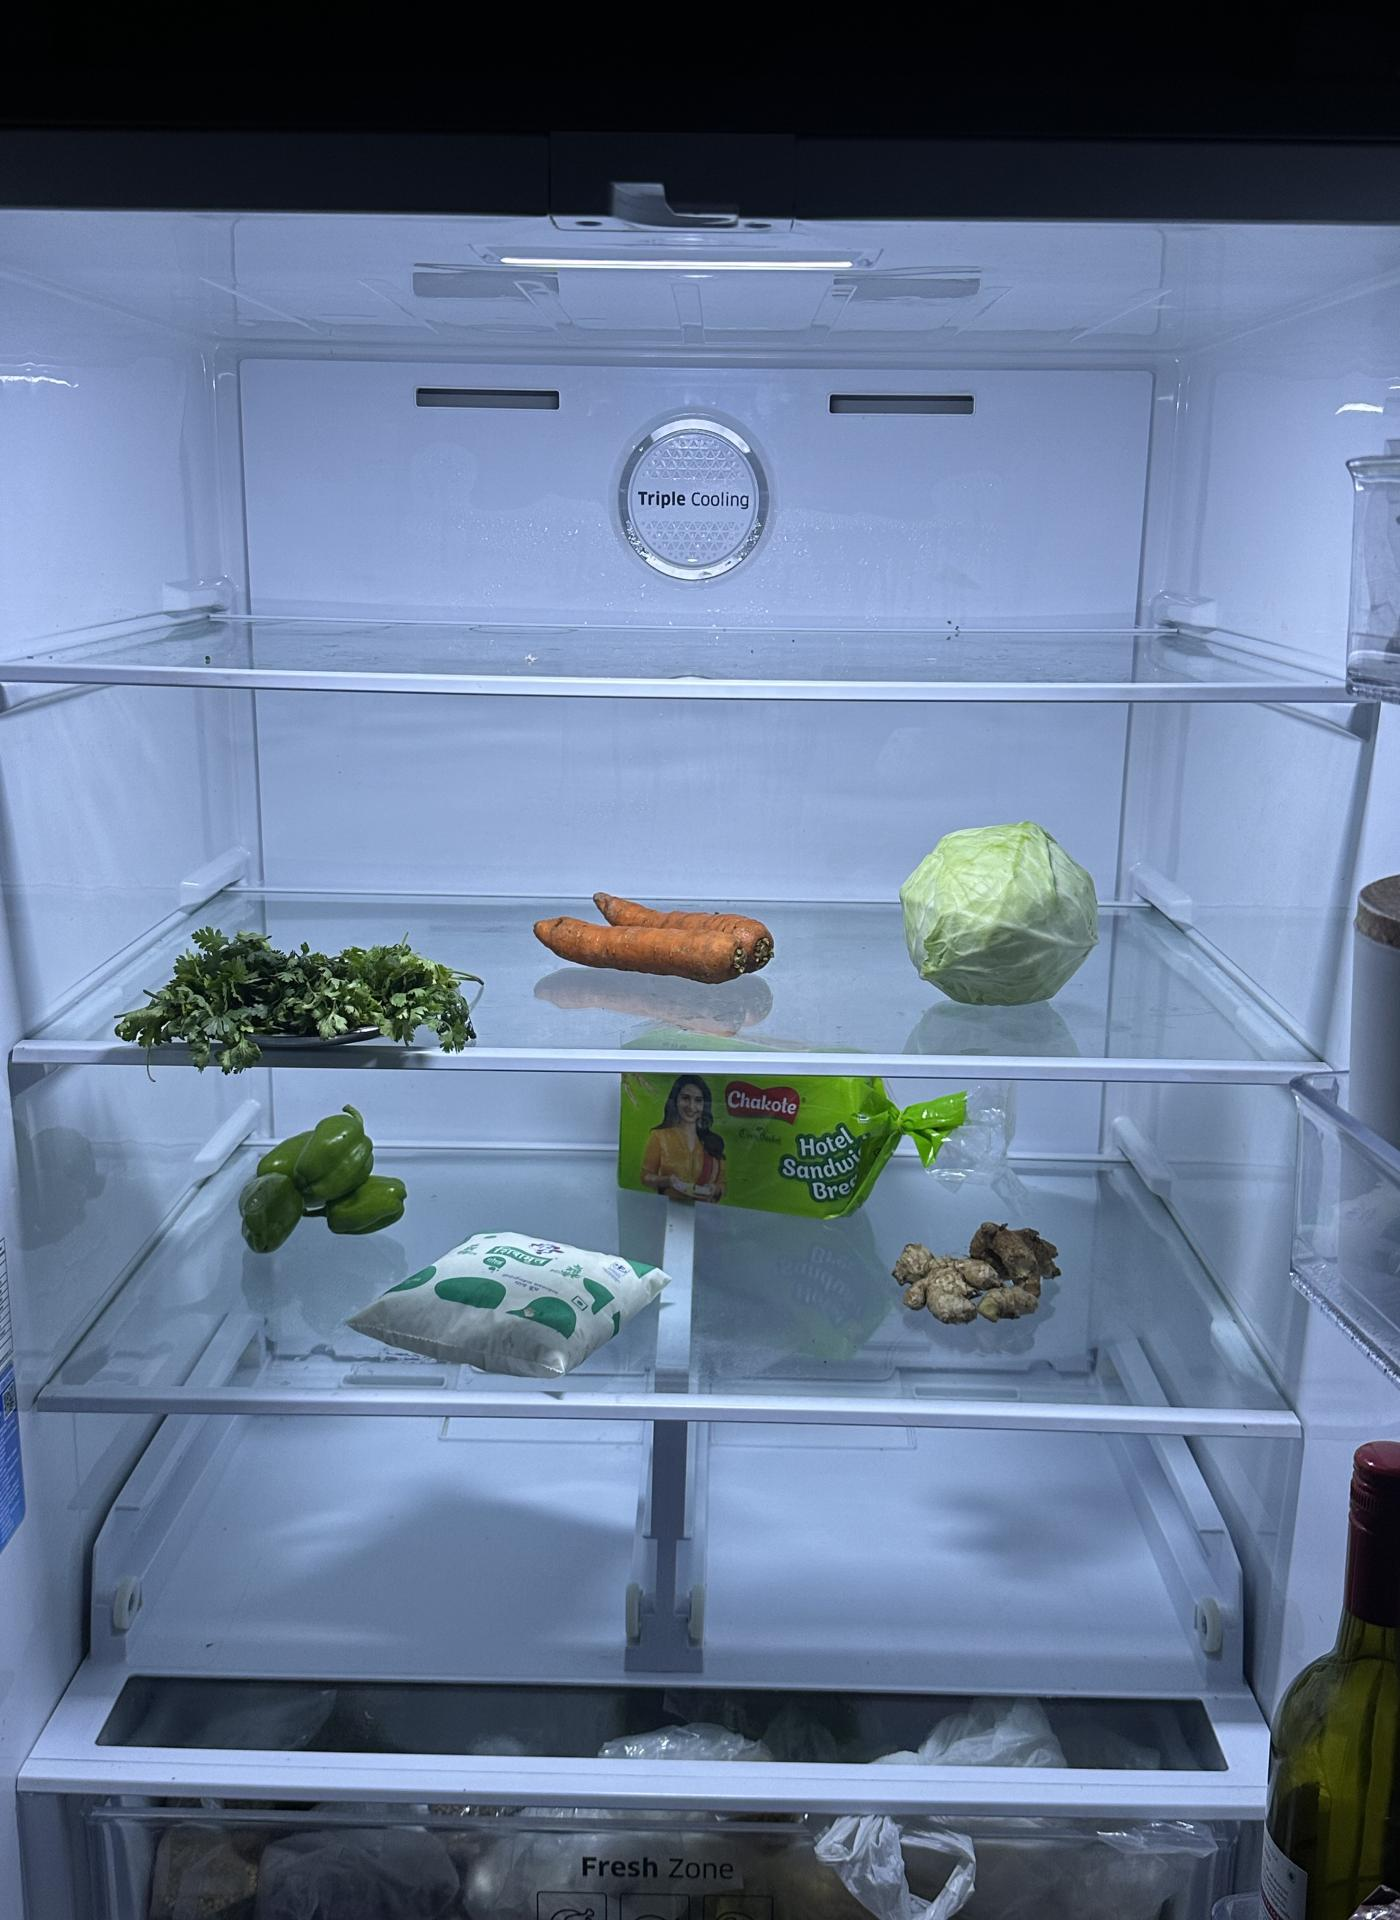bread: (620, 1067, 926, 1225)
cabbage: (895, 809, 1105, 1009)
capsicum: (239, 1106, 410, 1260)
carrots: (529, 885, 781, 982)
coriander: (113, 927, 479, 1066)
ginger: (893, 1207, 1065, 1336)
milk: (332, 1224, 662, 1373)
